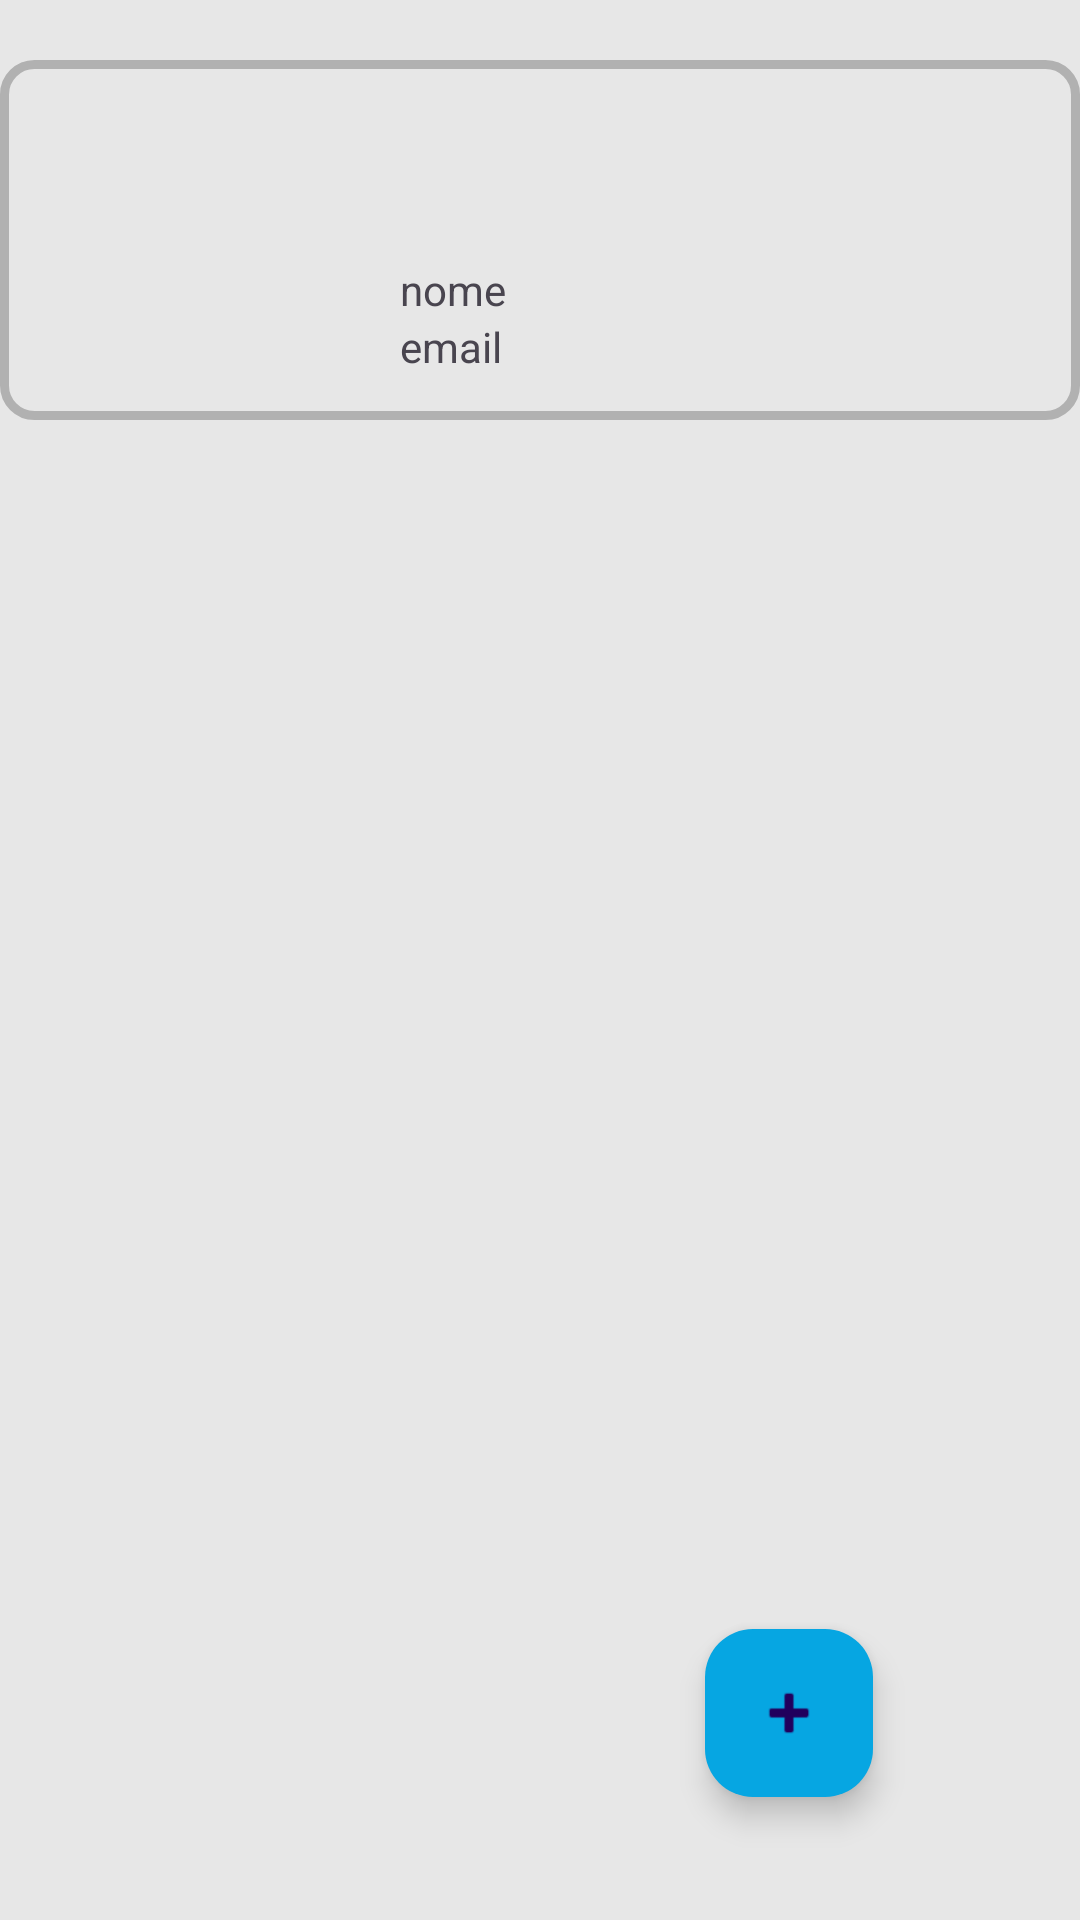

Icon bounding boxes for this 1080×1920 phone screenshot, format (x1, y1, x2, y2):
Adicionar Tarefa: (705, 1629, 873, 1797)
